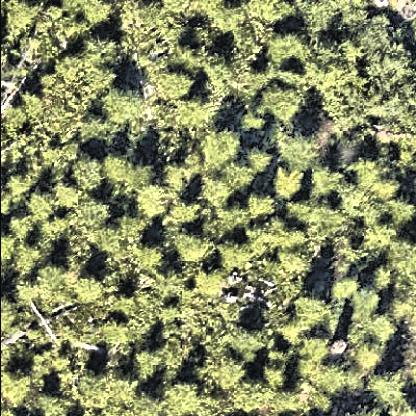tree-top: (76, 365, 126, 416), (102, 83, 152, 129), (358, 159, 406, 203), (261, 80, 307, 124), (369, 367, 413, 411), (278, 130, 322, 174), (316, 355, 360, 399), (226, 324, 271, 367), (198, 130, 244, 172), (265, 32, 311, 74), (209, 353, 252, 395), (292, 293, 336, 334), (175, 97, 219, 136), (37, 261, 77, 303), (310, 199, 351, 239), (2, 1, 44, 40), (1, 366, 39, 409), (155, 65, 198, 103), (245, 138, 285, 178), (70, 269, 110, 309), (80, 114, 120, 154), (178, 229, 217, 269), (164, 379, 206, 416), (70, 156, 108, 196), (361, 220, 399, 260), (311, 166, 349, 202), (272, 165, 308, 203), (101, 315, 139, 351), (218, 239, 256, 274), (250, 1, 297, 29), (137, 184, 174, 219), (211, 3, 249, 37), (133, 238, 168, 274), (194, 266, 231, 300), (201, 172, 236, 206), (39, 185, 77, 216), (169, 198, 205, 230), (73, 1, 115, 27), (246, 190, 280, 222), (135, 349, 167, 383), (1, 296, 25, 339), (222, 163, 254, 194), (131, 391, 169, 416), (261, 364, 292, 394), (387, 198, 416, 230), (38, 391, 74, 416), (5, 174, 36, 202), (7, 214, 37, 242), (370, 265, 397, 295), (248, 148, 276, 176), (239, 109, 267, 133)
